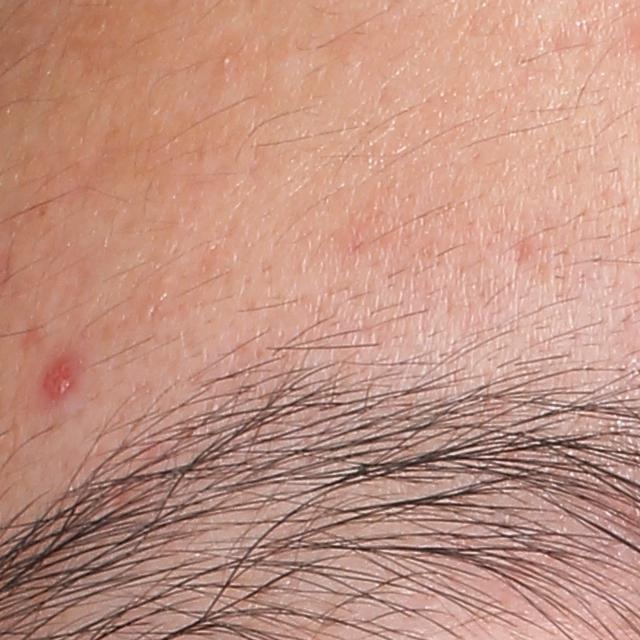papule: (38, 353, 83, 408)
